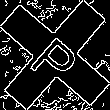P_NE: (25, 24, 85, 86)
